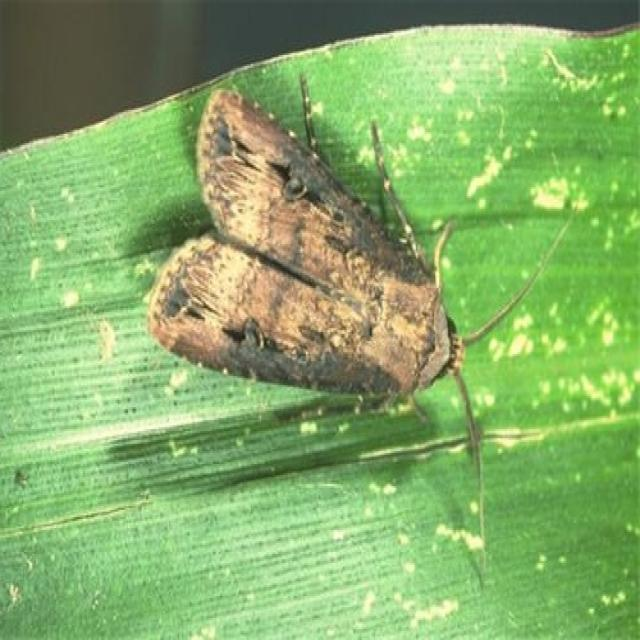black cutworm: (135, 82, 471, 416)
